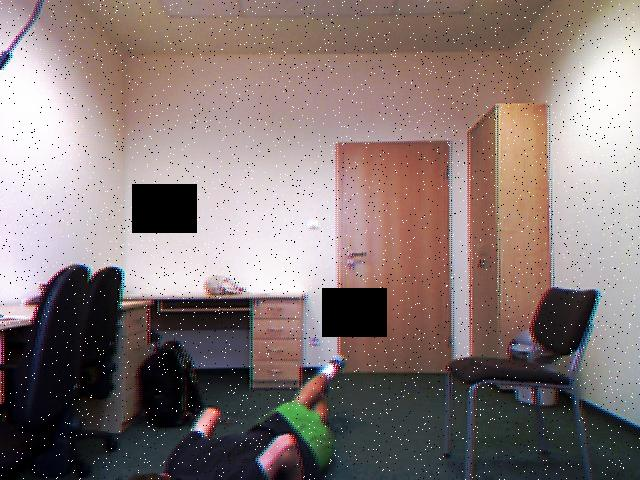fall: (124, 356, 362, 480)
